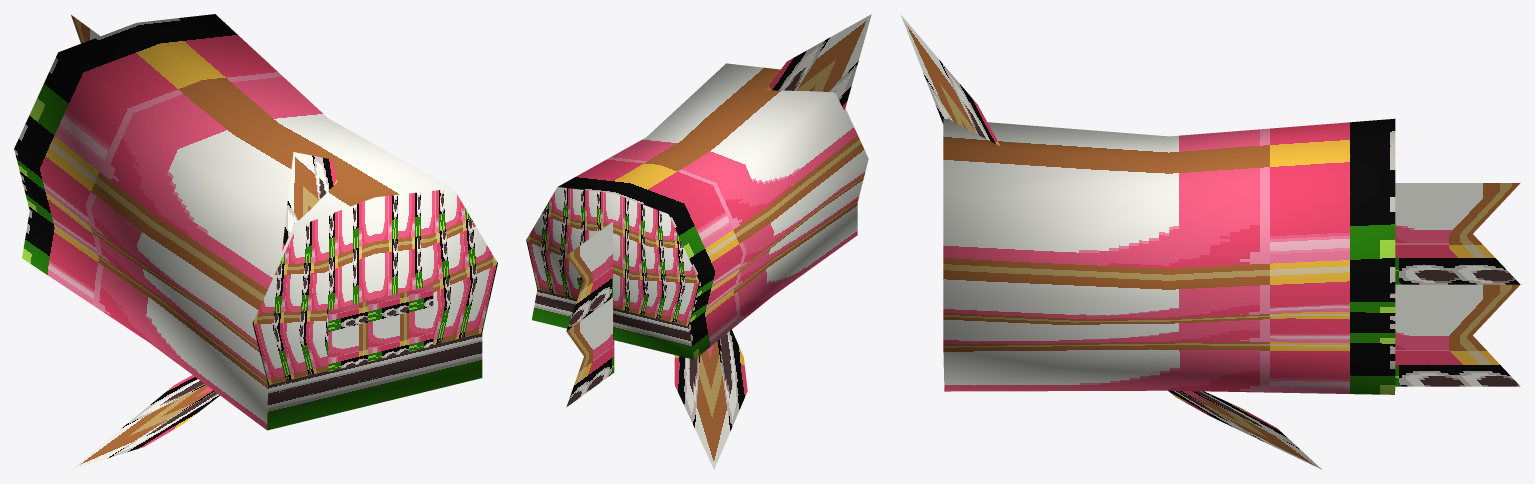
The model's file is 4876fish86.gltf.
3 renders of one model, left to right at view 1: azimuth 30°, elevation 25°; view 2: azimuth 150°, elevation 25°; view 3: azimuth 270°, elevation 25°, orthographic. The views are drawn at different scales.
Visible parts, largest first — view 1: 4876fish86; view 2: 4876fish86; view 3: 4876fish86.
Part boxes in pixels (x1=…): 4876fish86: x1=14, y1=14, x2=497, y2=469; 4876fish86: x1=526, y1=14, x2=871, y2=469; 4876fish86: x1=900, y1=14, x2=1520, y2=469.
Size of the model in its own units: 0.2524 by 0.4728 by 0.5829.
1 material, 1 textured.
